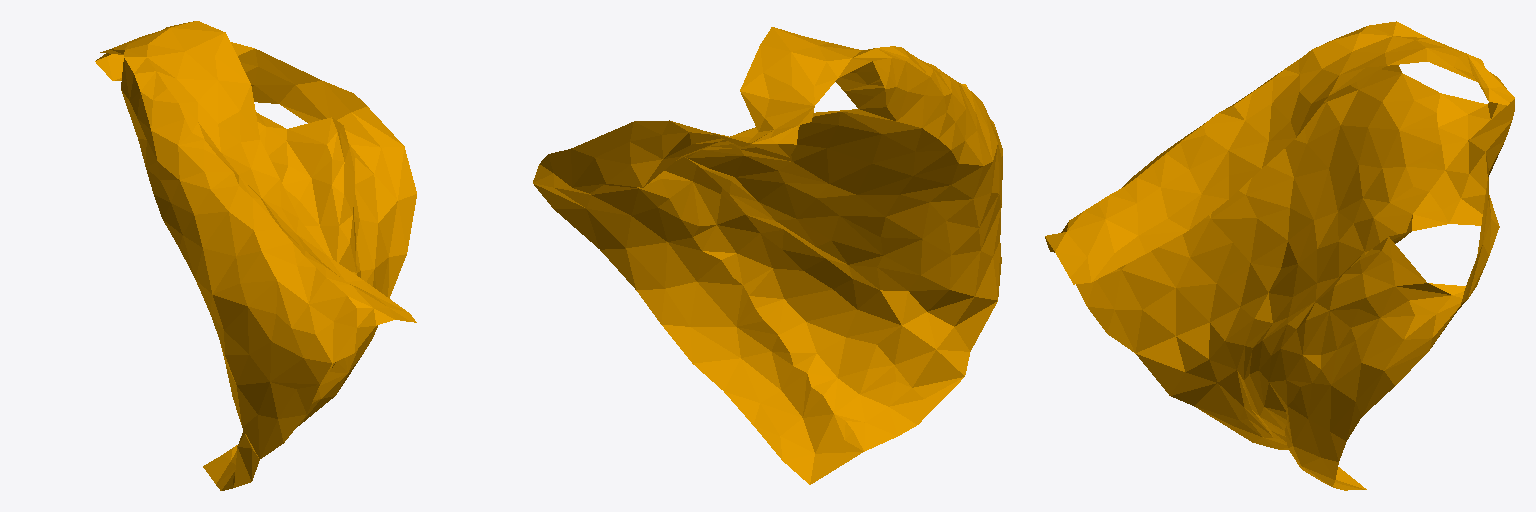
URDF robot description (init):
<?xml version='1.0' encoding='utf-8'?>
<robot name="init">
<link name="link_0"><inertial><mass value="1.0" /><origin rpy="0 0 0" xyz="0.000000 0.000000 0.000000" /><inertia ixx="1.0" ixy="0.0" ixz="0.0" iyy="1.0" iyz="0.0" izz="1.0" /></inertial><visual><origin rpy="0 0 0" xyz="0.000000 0.000000 0.000000" /><geometry><mesh filename="./clothHuman/cloth/1586.obj" /></geometry></visual><collision><origin rpy="0 0 0" xyz="0.000000 0.000000 0.000000" /><geometry><mesh filename="./clothHuman/cloth/1586.obj" /></geometry></collision></link></robot>

--- Facts derived from the render (not from the file) ---
The picture shows the robot from 3 angles, left to right: view 1: azimuth 30°, elevation 25°; view 2: azimuth 150°, elevation 25°; view 3: azimuth 270°, elevation 25°; orthographic projection.
Robot: init — 1 links, 0 joints (none); root link link_0; default pose: every joint at zero.
Visible links, largest first — view 1: link_0; view 2: link_0; view 3: link_0.
Boxes of the visible links, x1=… form: link_0: x1=95, y1=21, x2=416, y2=490; link_0: x1=533, y1=27, x2=1002, y2=484; link_0: x1=1045, y1=21, x2=1514, y2=490.
Bounding box of the posed robot: 2.72 × 3.4 × 3.49 m (x, y, z).
Meshes: 1 distinct files referenced, 1 mesh visuals loaded (1 OBJ).